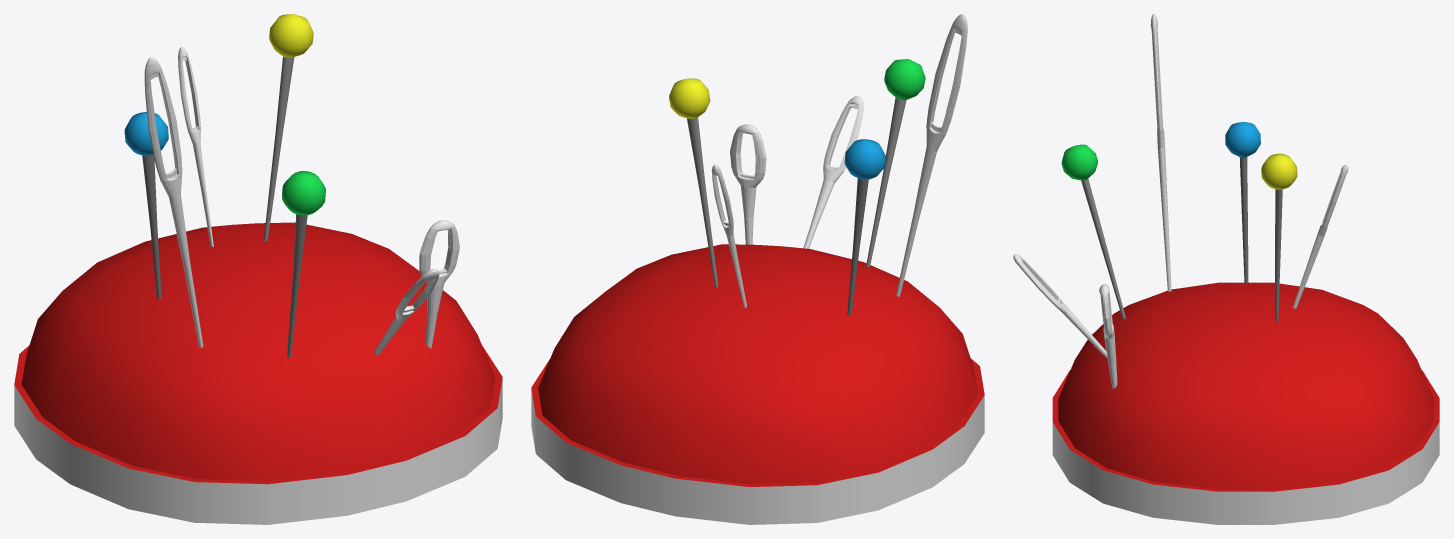
The model's file is Needler.FBX.
The picture shows the model from 3 angles, left to right: view 1: azimuth 30°, elevation 25°; view 2: azimuth 150°, elevation 25°; view 3: azimuth 270°, elevation 25°; orthographic projection. The views are drawn at different scales.
Parts seen in each view (by area): view 1: Box007, Cylinder046, Cylinder049, Cylinder048, Cylinder050, Cylinder045, Cylinder047, Cylinder042; view 2: Box007, Cylinder046, Cylinder048, Cylinder049, Cylinder050, Cylinder045, Cylinder042, Cylinder047; view 3: Box007, Cylinder048, Cylinder050, Cylinder049, Cylinder046, Cylinder042, Cylinder047, Cylinder045.
Boxes of the visible parts, x1,y1,x2,y2 form: Box007: (14, 222, 502, 524); Cylinder046: (144, 57, 203, 347); Cylinder049: (263, 14, 313, 241); Cylinder048: (282, 171, 325, 357); Cylinder050: (124, 112, 168, 299); Cylinder045: (419, 220, 459, 348); Cylinder047: (178, 47, 213, 246); Cylinder042: (374, 269, 439, 354); Box007: (531, 244, 984, 524); Cylinder046: (896, 14, 967, 296); Cylinder048: (866, 59, 925, 267); Cylinder049: (669, 78, 718, 287); Cylinder050: (844, 139, 885, 315); Cylinder045: (730, 124, 766, 244); Cylinder042: (803, 95, 863, 248); Cylinder047: (711, 164, 746, 307); Box007: (1052, 282, 1439, 524); Cylinder048: (1061, 144, 1125, 319); Cylinder050: (1225, 121, 1260, 282); Cylinder049: (1261, 153, 1297, 322); Cylinder046: (1150, 14, 1171, 291); Cylinder042: (1013, 254, 1107, 357); Cylinder047: (1292, 164, 1348, 308); Cylinder045: (1099, 284, 1117, 388).
Size of the model in its own units: 120 by 124 by 132.
